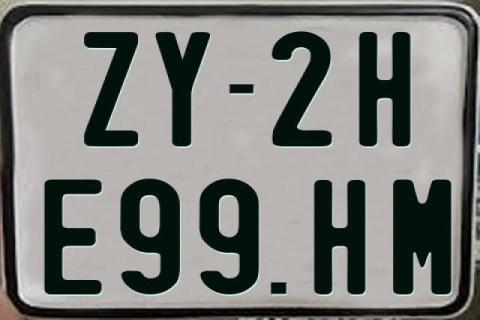0: (117, 176, 181, 293), (271, 29, 334, 144), (197, 179, 258, 297)
E: (41, 179, 100, 295)
H: (356, 31, 411, 149), (312, 178, 364, 294)
M: (391, 177, 455, 295)
Y: (155, 31, 213, 149)
Z: (84, 30, 143, 148)
